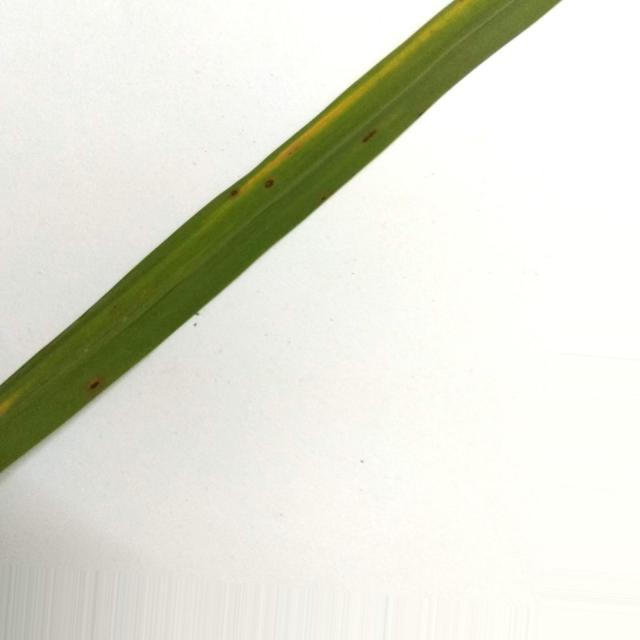Brown_Spot: (362, 129, 376, 142), (88, 379, 100, 391), (319, 192, 330, 200), (265, 180, 274, 189), (230, 189, 239, 196)
